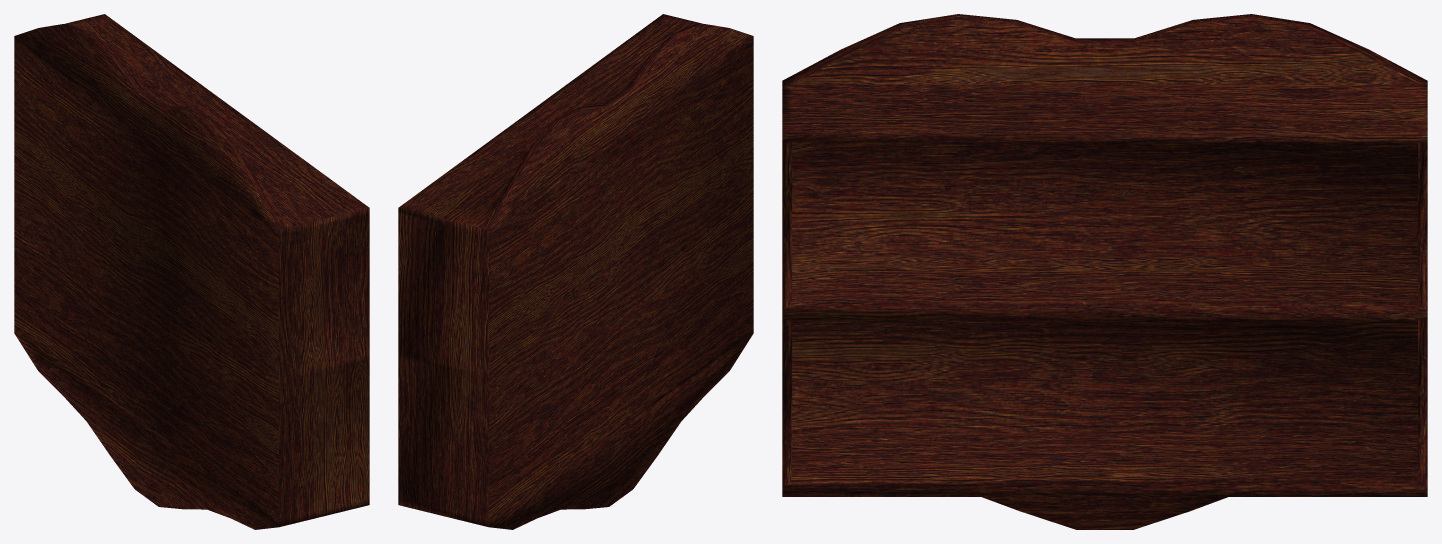
File: DisplayCabinet.glb
The picture shows the model from 3 angles, left to right: view 1: azimuth 30°, elevation 25°; view 2: azimuth 150°, elevation 25°; view 3: azimuth 270°, elevation 25°; orthographic projection. The views are drawn at different scales.
Parts seen in each view (by area): view 1: Plane; view 2: Plane; view 3: Plane.
Part boxes in pixels (<box>): Plane: <box>14,14,369,529</box>; Plane: <box>398,14,753,529</box>; Plane: <box>782,14,1427,529</box>.
Size of the model in its own units: 4.07 by 18.06 by 20.63.
1 material, 1 textured.
